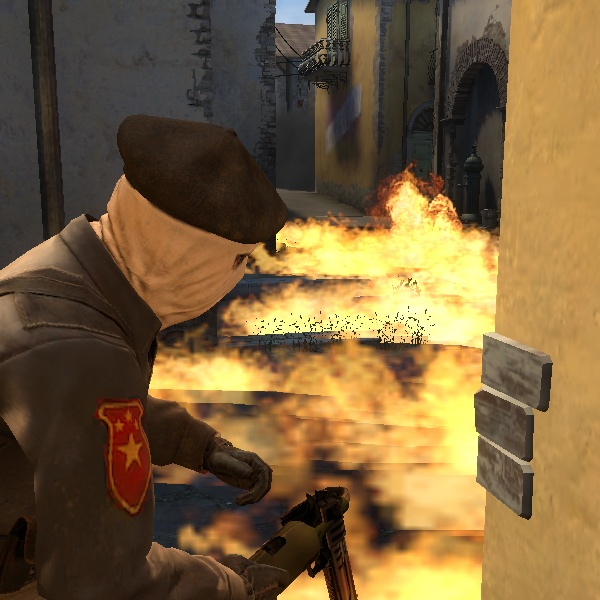t_body: (0, 0, 566, 600)
